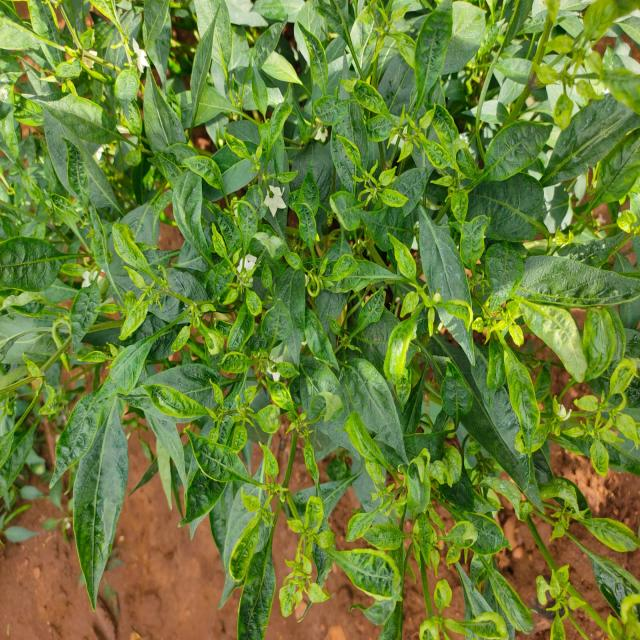Moko: (169, 325, 407, 640), (16, 338, 245, 586), (0, 150, 211, 371), (460, 270, 640, 480), (314, 127, 474, 348), (195, 87, 346, 314), (373, 425, 531, 640), (491, 440, 640, 640), (4, 0, 182, 144), (500, 0, 628, 133), (337, 0, 446, 90)
